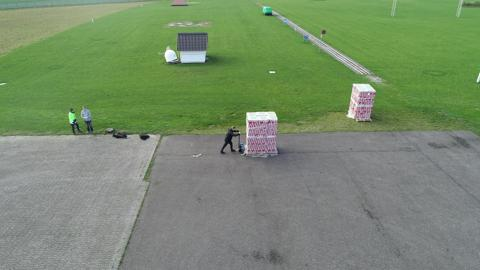RockwoolPallet: (244, 110, 277, 156)
